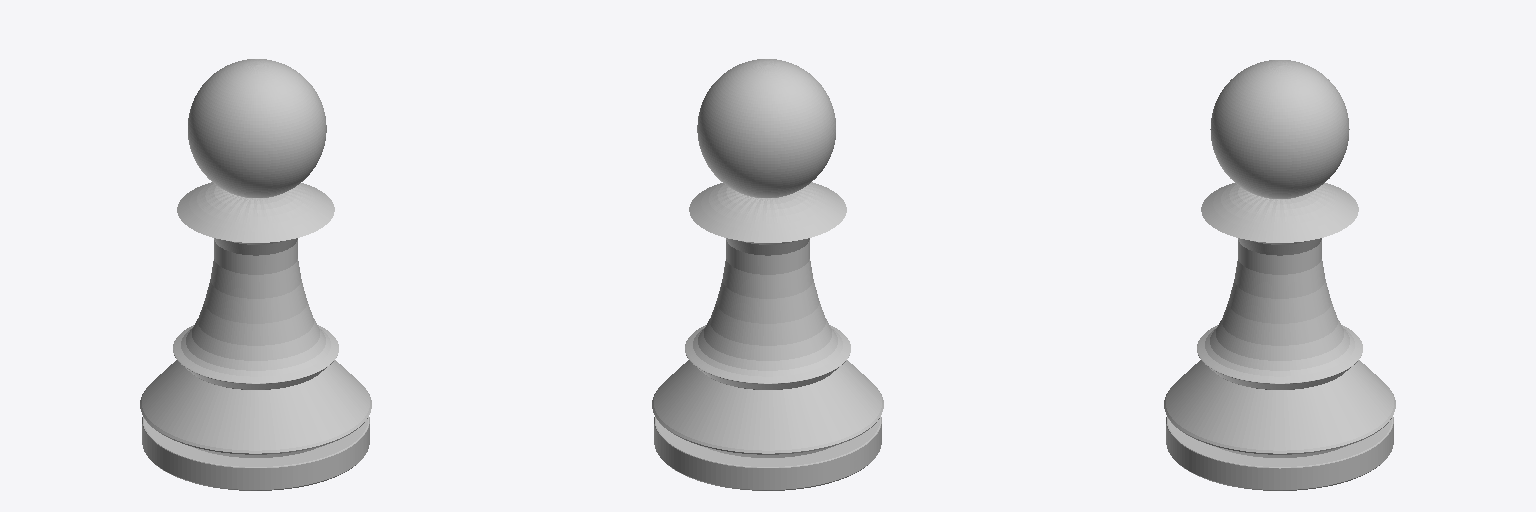
Rendered from pawn.obj.
3 views of the same model, side by side, from view 1: azimuth 30°, elevation 25°; view 2: azimuth 150°, elevation 25°; view 3: azimuth 270°, elevation 25° (orthographic).
Visible parts, largest first — view 1: Cylinder; view 2: Cylinder; view 3: Cylinder.
Boxes of the visible parts, x1,y1,x2,y2 form: Cylinder: [140, 59, 371, 490]; Cylinder: [652, 59, 883, 490]; Cylinder: [1164, 60, 1395, 490].
Bounding box in the file's own units: 2.03 × 3.68 × 2.03.